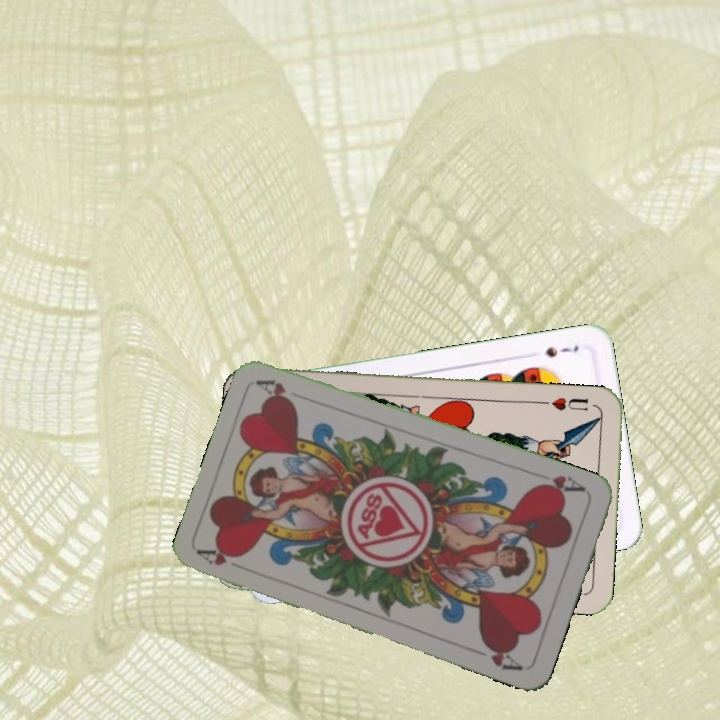HA: (195, 542, 253, 575), (532, 471, 588, 498)
HU: (538, 393, 591, 414)
S7: (541, 341, 581, 360)
